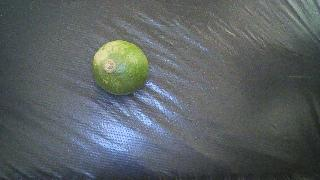DESECHO: (92, 40, 149, 95)
